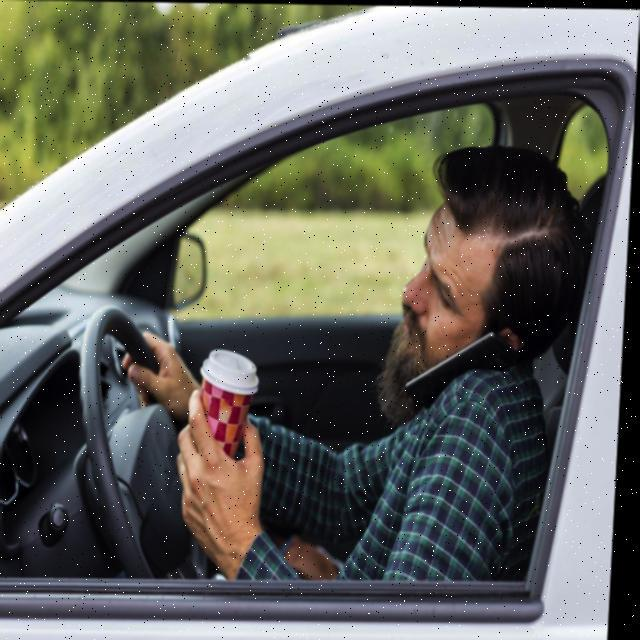noSeatbelt: (321, 337, 554, 589)
